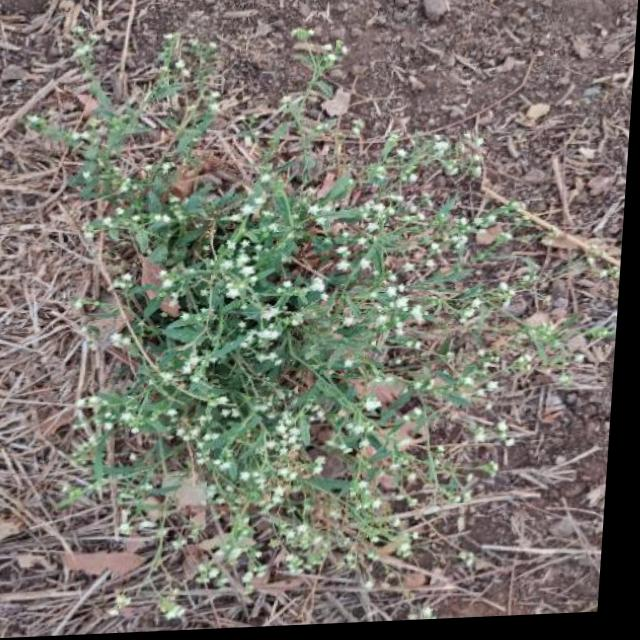weed: (43, 30, 559, 591)
